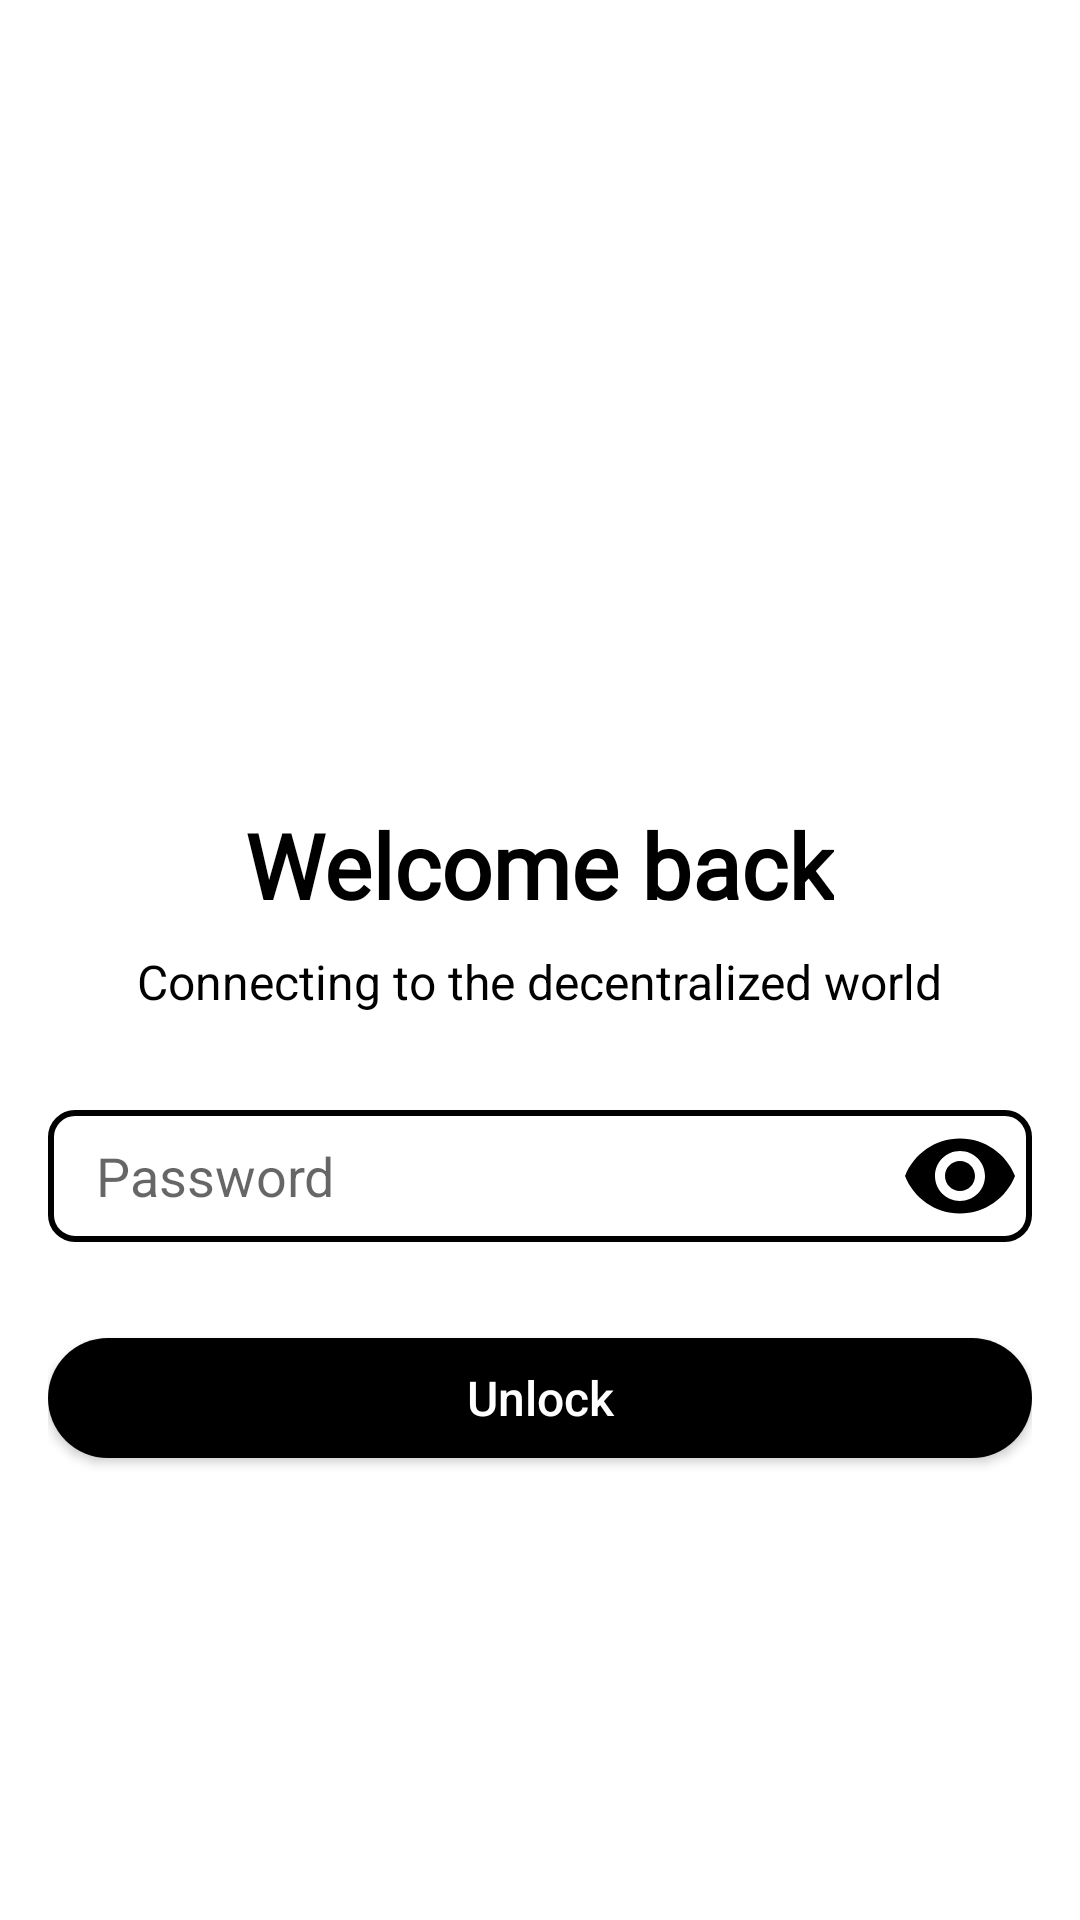

Icon click points for this 1080px×1920px phone screenshot, format [x,y]:
eye open: [960,1176]
